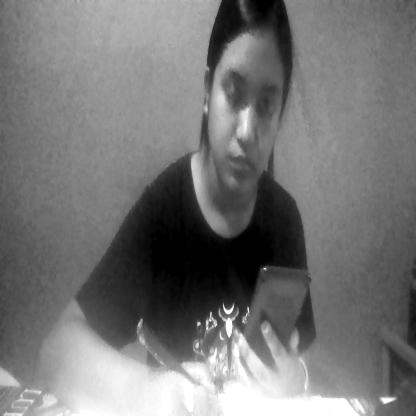Normal: (196, 6, 310, 228)
